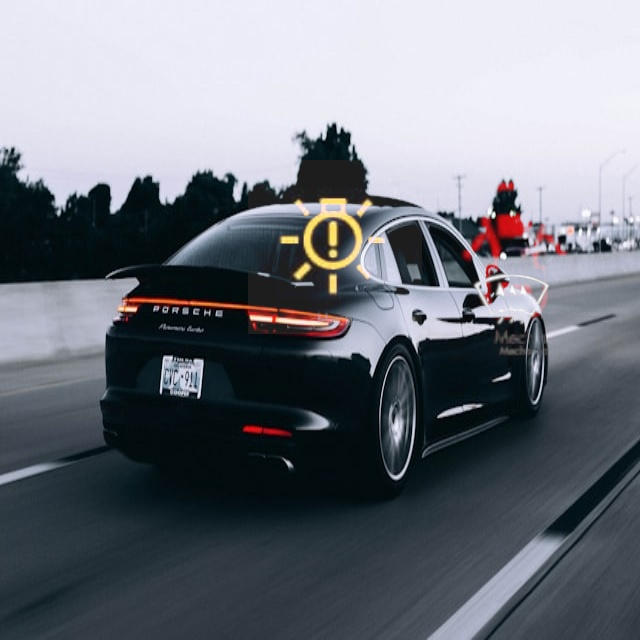symbol: (416, 155, 615, 354), (248, 160, 422, 334), (452, 239, 574, 361)
